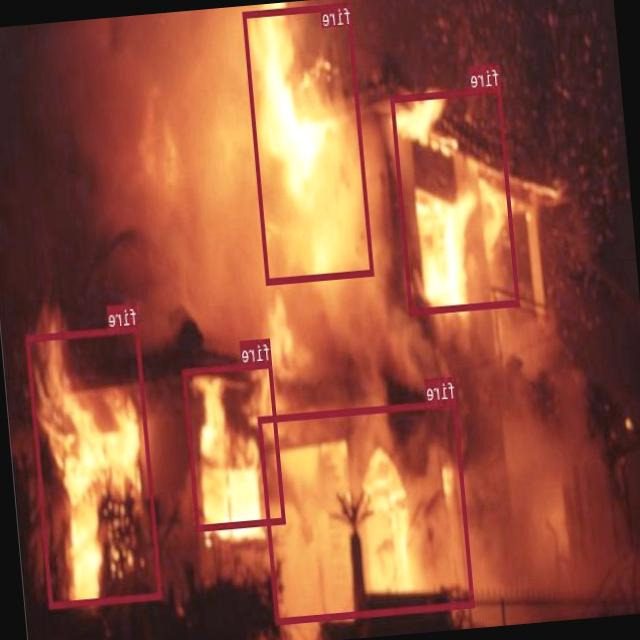fire: (259, 398, 475, 622), (26, 323, 163, 608), (243, 2, 374, 284), (390, 84, 520, 314), (182, 360, 286, 530)
